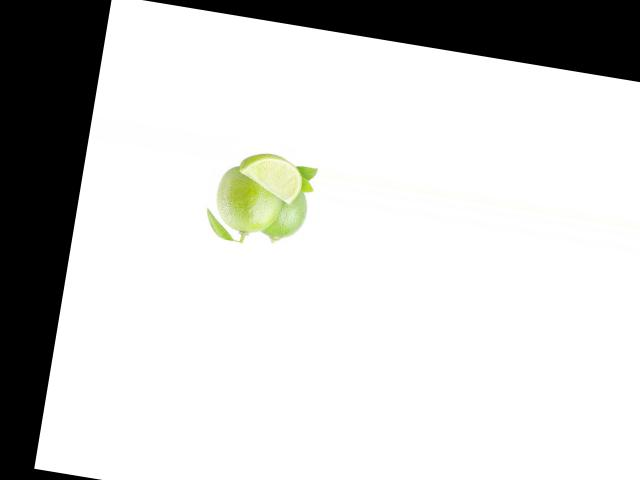lemon: (210, 165, 284, 240)
